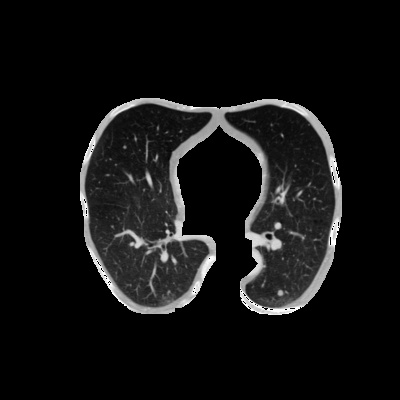PN: (277, 290, 283, 296)
